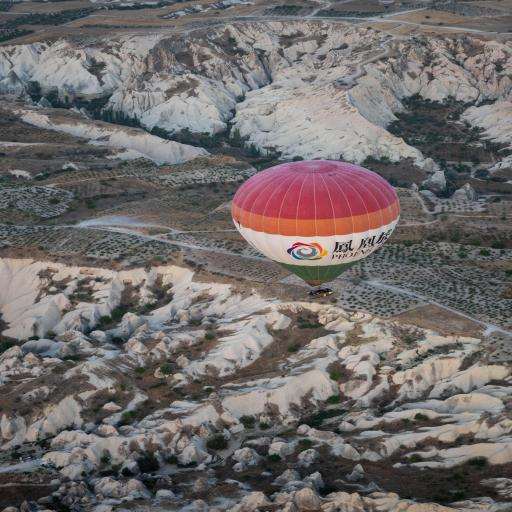hot air ballon: (230, 159, 402, 299)
